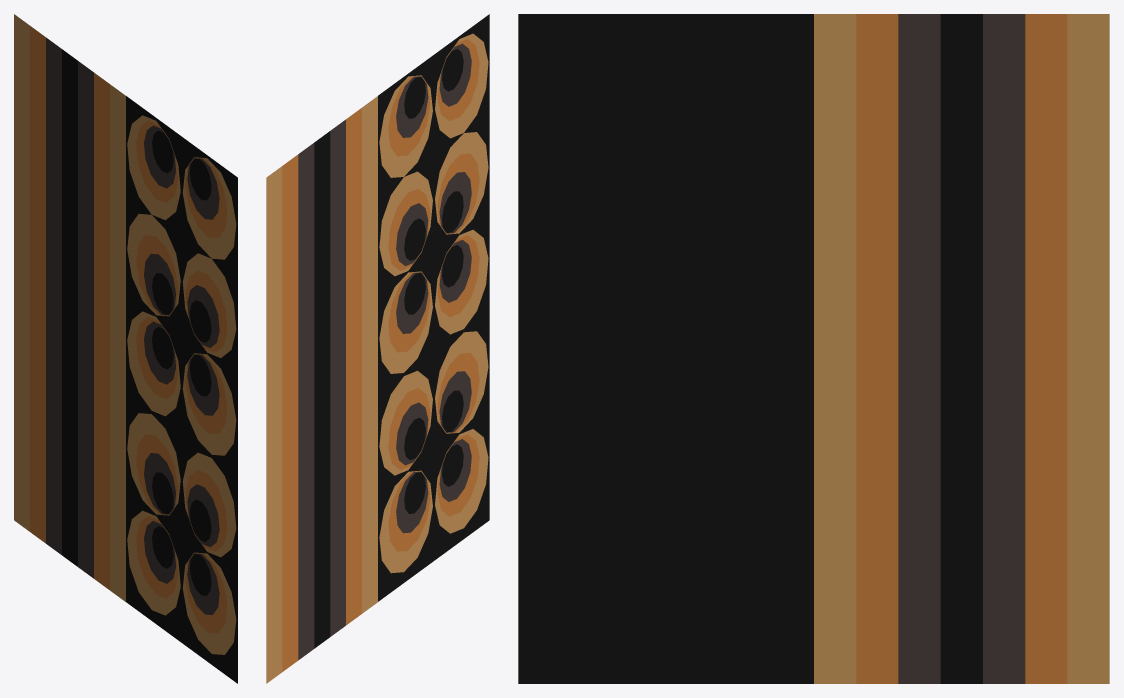
File: SM_Tapisserie.fbx
3 views of the same model, side by side, from view 1: azimuth 30°, elevation 25°; view 2: azimuth 150°, elevation 25°; view 3: azimuth 270°, elevation 25° (orthographic). The views are drawn at different scales.
Parts seen in each view (by area): view 1: Plane.001, Plane.002; view 2: Plane.001, Plane.002; view 3: Plane.001, Plane.002.
Boxes of the visible parts, x1=… form: Plane.001: x1=14, y1=14, x2=125, y2=601; Plane.002: x1=126, y1=96, x2=237, y2=683; Plane.001: x1=266, y1=96, x2=377, y2=683; Plane.002: x1=378, y1=14, x2=489, y2=601; Plane.001: x1=814, y1=14, x2=1109, y2=683; Plane.002: x1=518, y1=14, x2=813, y2=683.
Bounding box in the file's own units: 200 × 0.096 × 250.
